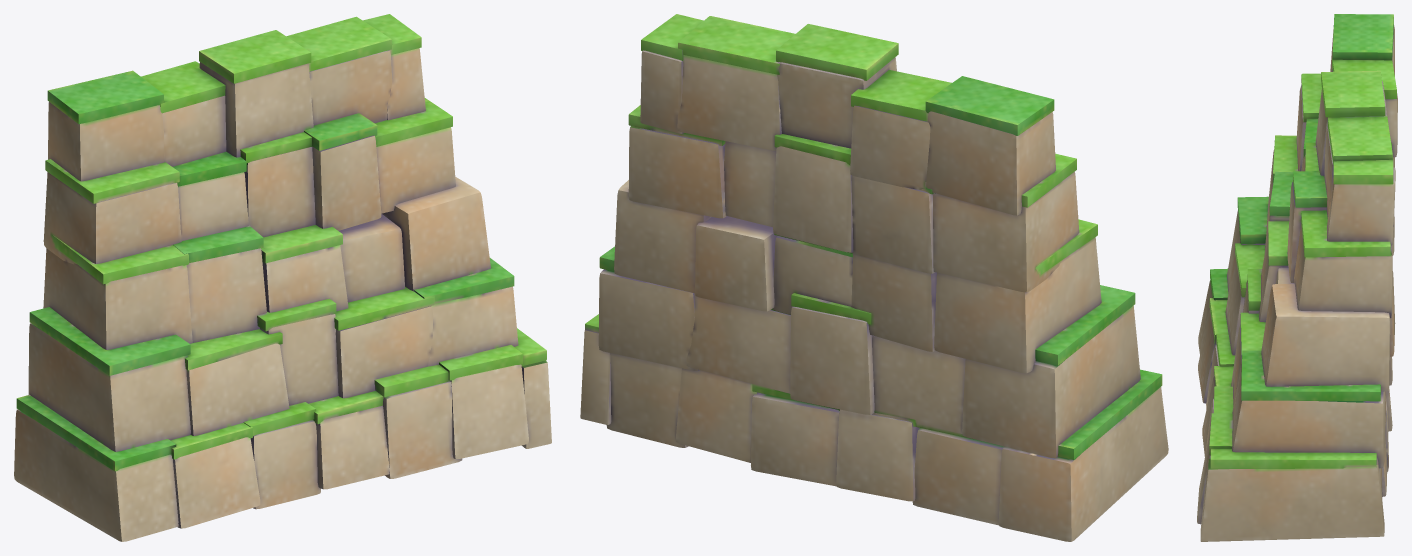
The model's file is FalaiseGradins.fbx.
The picture shows the model from 3 angles, left to right: view 1: azimuth 30°, elevation 25°; view 2: azimuth 150°, elevation 25°; view 3: azimuth 270°, elevation 25°; orthographic projection. The views are drawn at different scales.
Parts seen in each view (by area): view 1: FalaiseGradins; view 2: FalaiseGradins; view 3: FalaiseGradins.
Part boxes in pixels (x1,y1,x2,y2): FalaiseGradins: [14, 14, 551, 541]; FalaiseGradins: [580, 14, 1168, 541]; FalaiseGradins: [1197, 14, 1397, 541].
Size of the model in its own units: 3602 by 2987 by 1525.
1 material, 1 textured.
